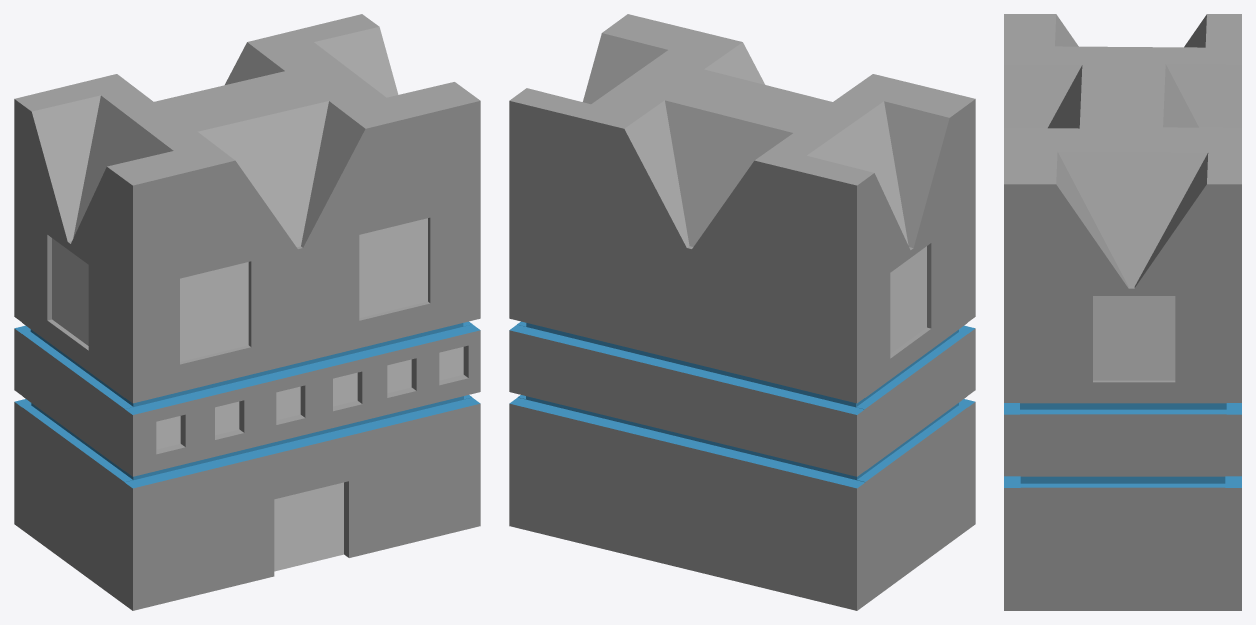
The model's file is StaticBuilding3.fbx.
3 renders of one model, left to right at view 1: azimuth 30°, elevation 25°; view 2: azimuth 150°, elevation 25°; view 3: azimuth 270°, elevation 25°, orthographic.
Parts seen in each view (by area): view 1: polySurface24; view 2: polySurface24; view 3: polySurface24.
Boxes of the visible parts, x1,y1,x2,y2 form: polySurface24: (14, 14, 480, 610); polySurface24: (509, 14, 975, 610); polySurface24: (1004, 14, 1241, 610).
Bounding box in the file's own units: 10.89 × 12.73 × 6.43.
